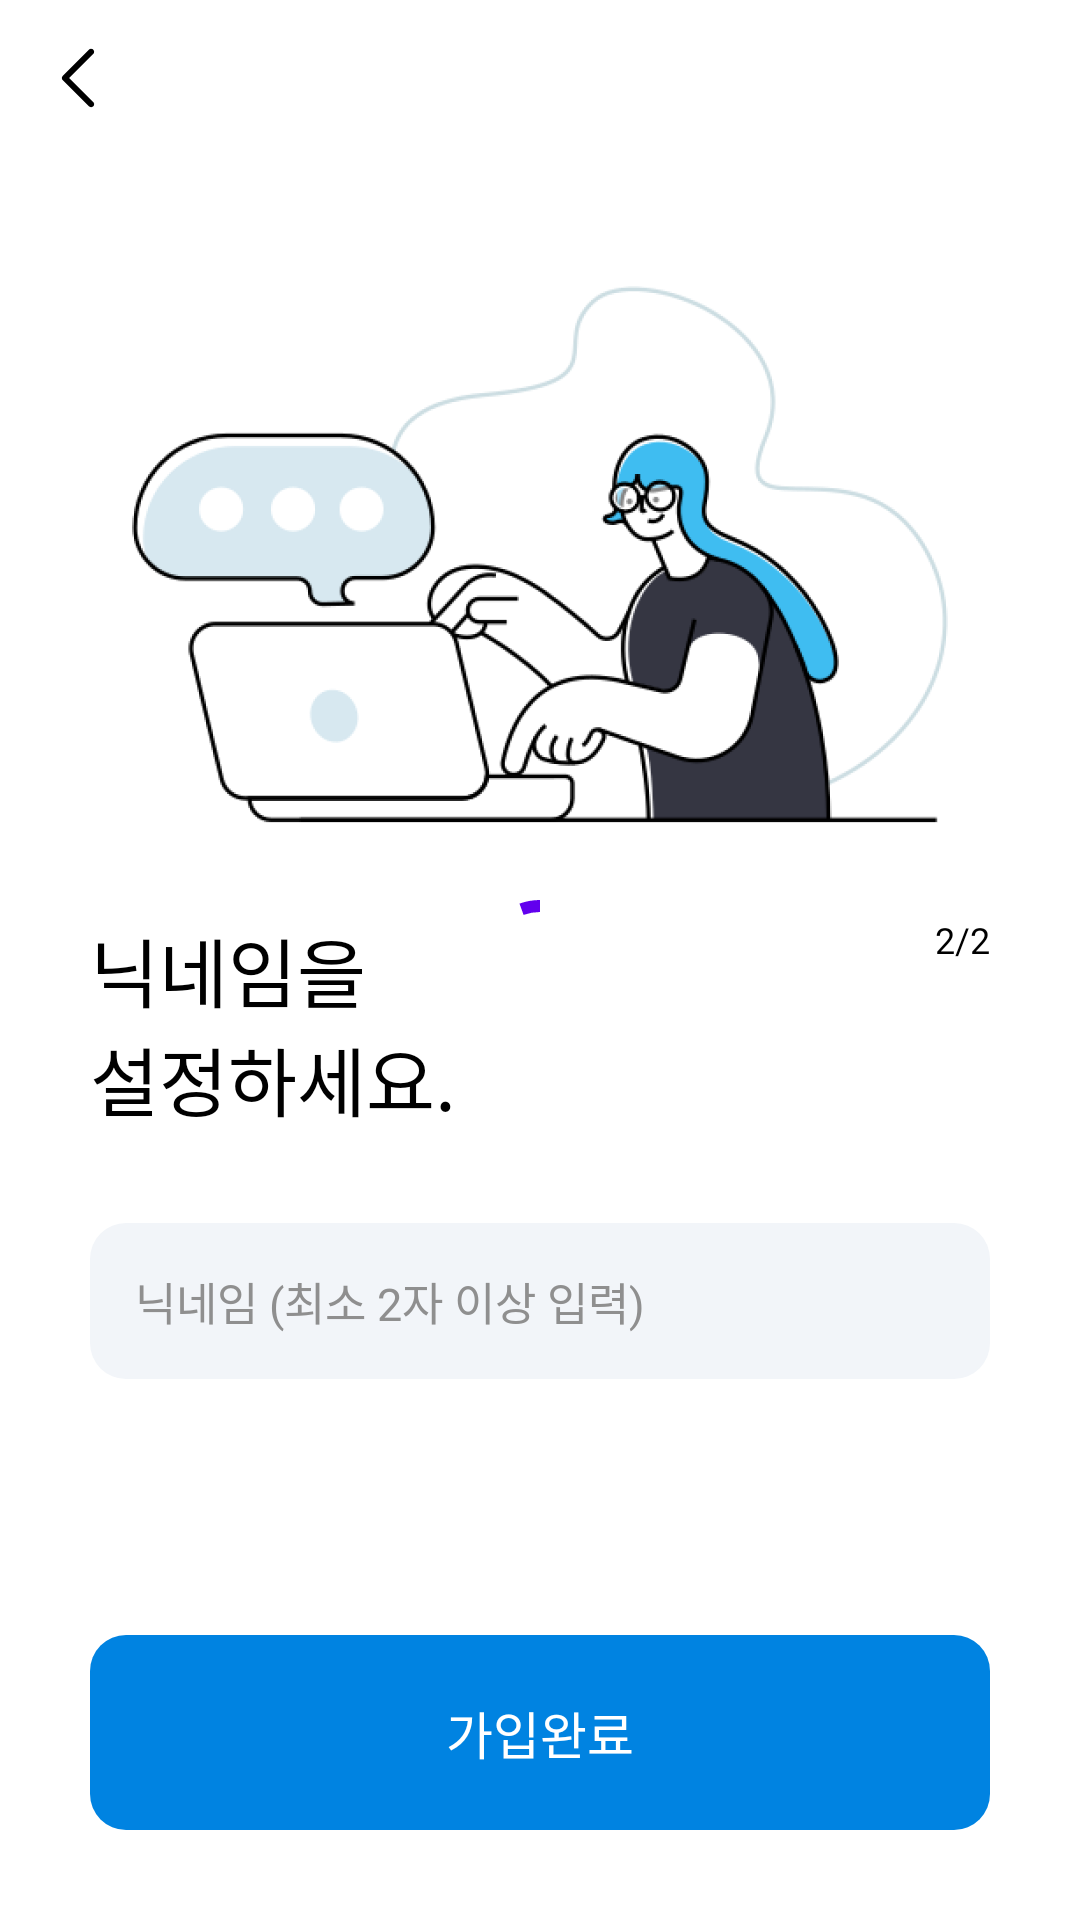

Icon click points for this 1080x1920 phone screenshot, format (x=x, y=y):
back: (x=78, y=78)
